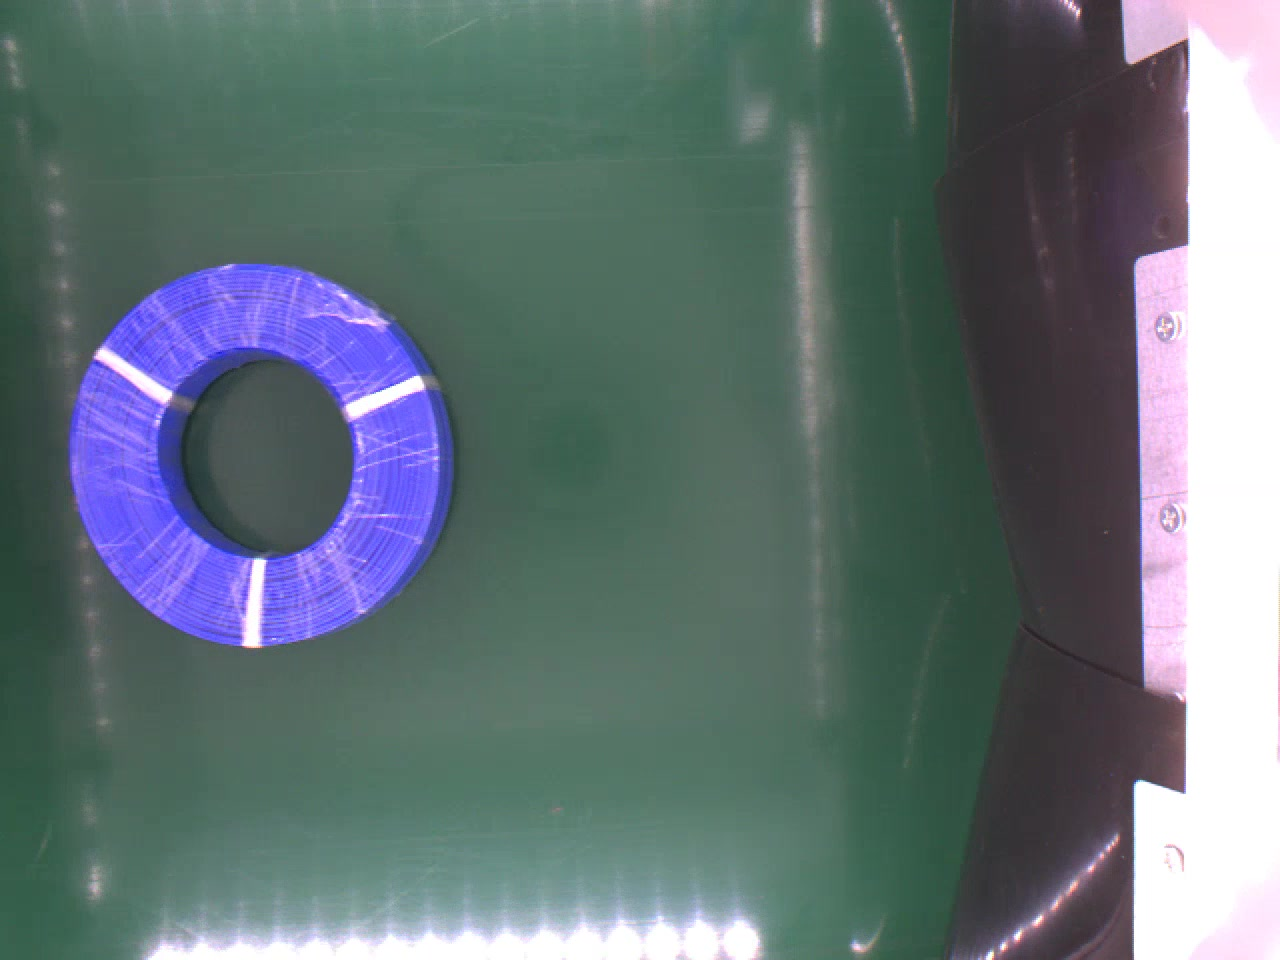blue: (68, 261, 451, 644)
